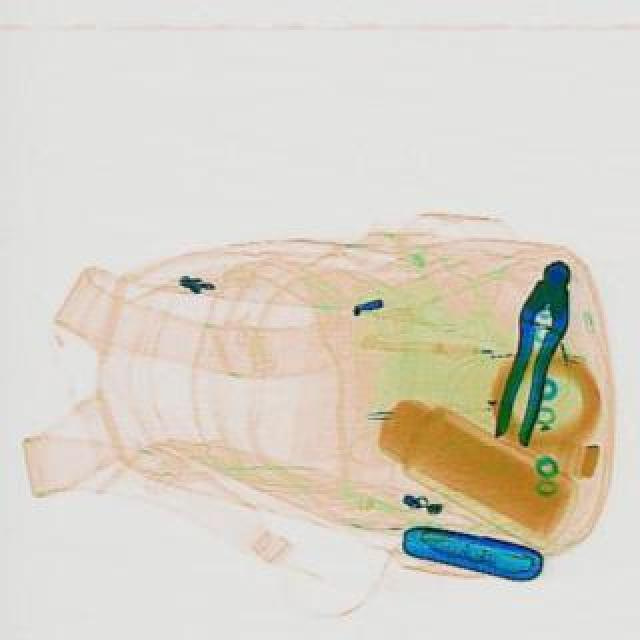wrench: (482, 258, 584, 452)
